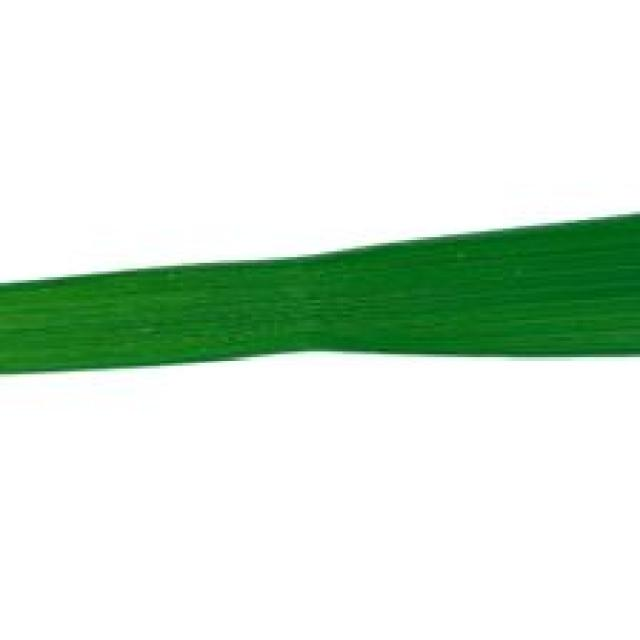Rice___Healthy_Rice_Plant: (1, 212, 637, 375)
